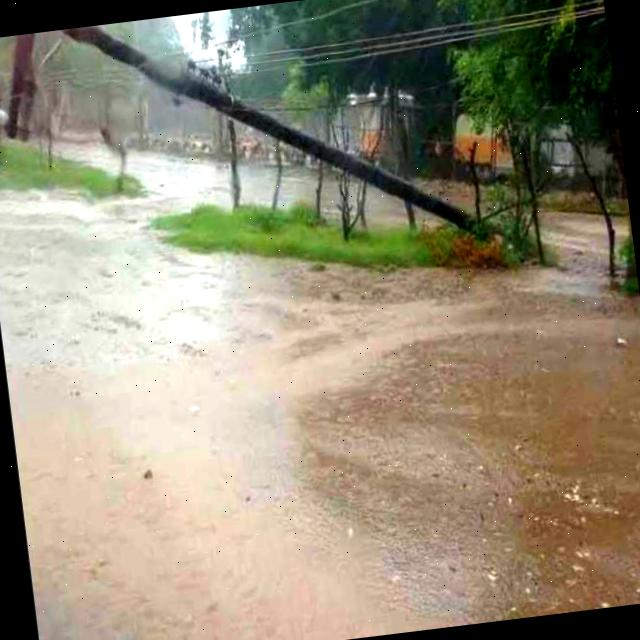Broken Pole: (55, 26, 493, 244)
